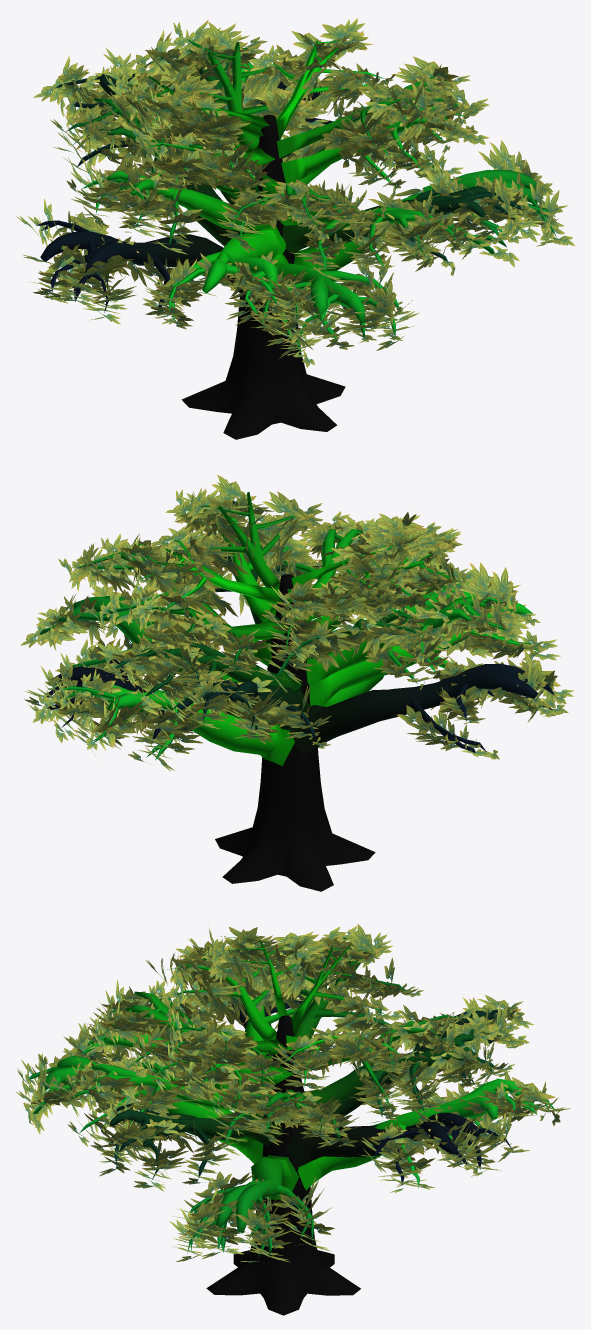
Rendered from tree+ mor fan like leaf.fbx.
The picture shows the model from 3 angles, top to bottom: view 1: azimuth 30°, elevation 25°; view 2: azimuth 150°, elevation 25°; view 3: azimuth 270°, elevation 25°; orthographic projection. The views are drawn at different scales.
Visible parts, largest first — view 1: fan leaf_1, bark07_0; view 2: fan leaf_1, bark07_0; view 3: fan leaf_1, bark07_0.
Boxes of the visible parts, left/top/right/bottom form: fan leaf_1: left=16, top=18, right=575, bottom=367; bark07_0: left=36, top=39, right=556, bottom=439; fan leaf_1: left=20, top=474, right=574, bottom=771; bark07_0: left=39, top=492, right=554, bottom=891; fan leaf_1: left=16, top=923, right=570, bottom=1262; bark07_0: left=26, top=936, right=557, bottom=1315.
Size of the model in its own units: 1445 by 881 by 1416.
